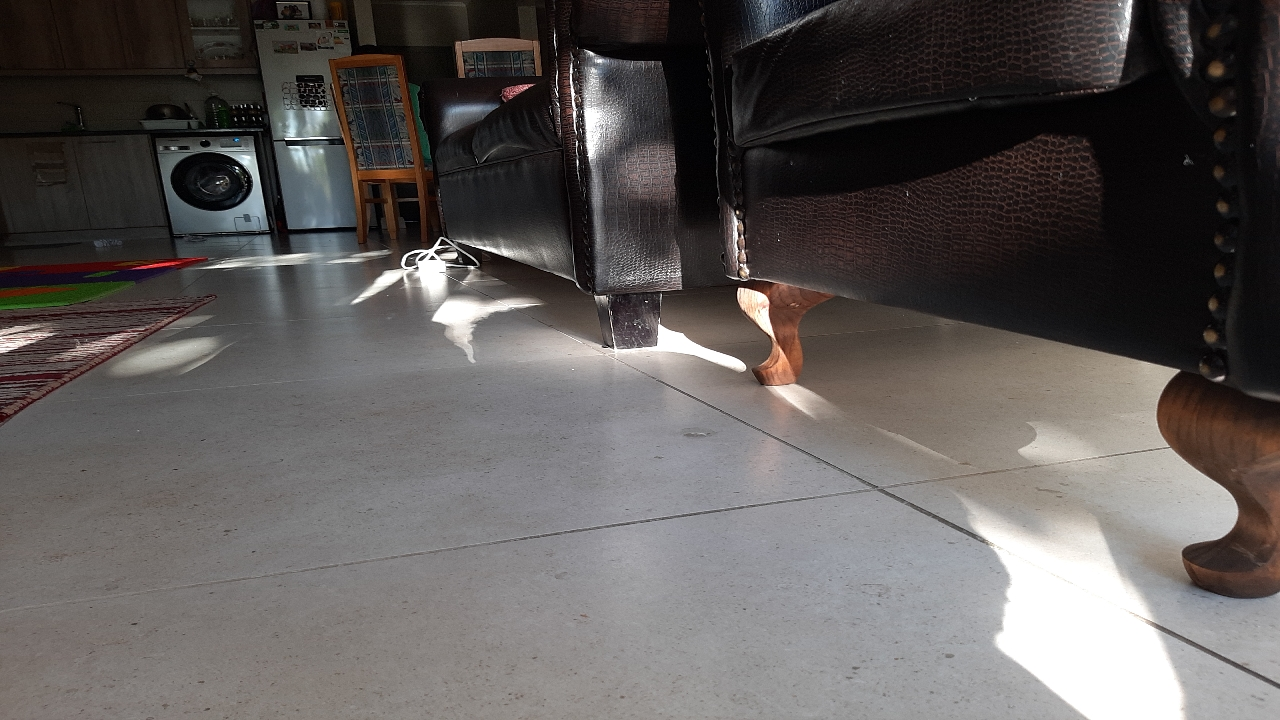cable: (397, 248, 489, 286)
chair: (350, 217, 384, 256)
sofa: (555, 267, 1263, 613)
